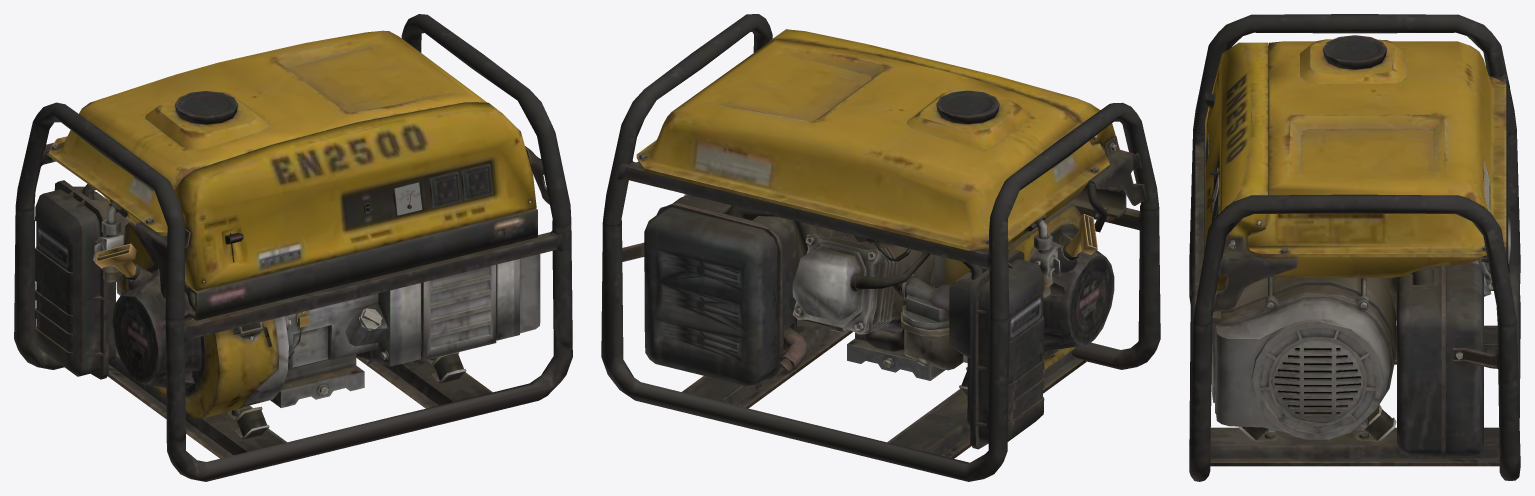
Rendered from portable_generator.glb.
3 views of the same model, side by side, from view 1: azimuth 30°, elevation 25°; view 2: azimuth 150°, elevation 25°; view 3: azimuth 270°, elevation 25° (orthographic).
Visible parts, largest first — view 1: portable_generator; view 2: portable_generator; view 3: portable_generator.
Part boxes in pixels (x1,y1,x2,y2): portable_generator: (14,14,572,481); portable_generator: (601,14,1160,481); portable_generator: (1189,14,1520,481).
Size of the model in its own units: 0.8169 by 0.5752 by 0.564.
Materials: 2 (2 with a texture image).
